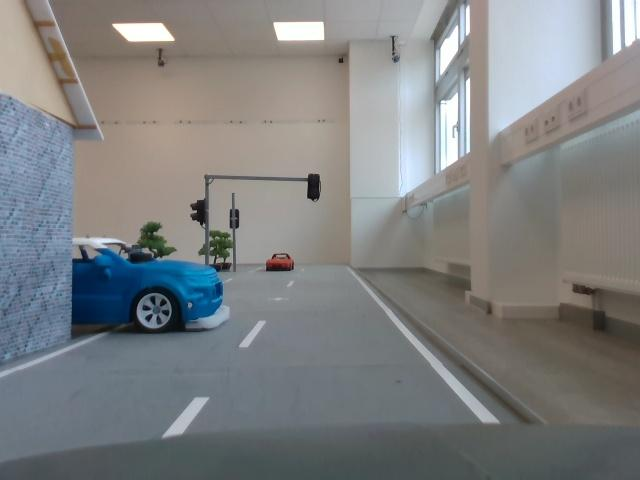car: (71, 238, 236, 340), (266, 253, 296, 272)
potted plant: (139, 223, 176, 256), (202, 232, 224, 272), (216, 232, 237, 272)
traffic light: (189, 199, 209, 227), (305, 174, 323, 203), (231, 208, 242, 231)
